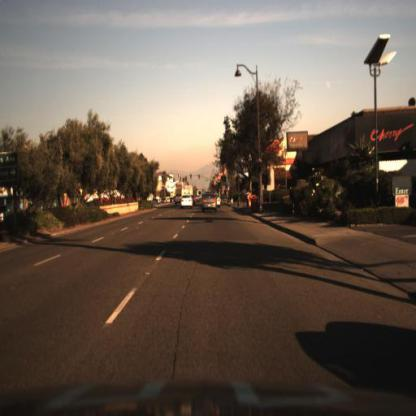car: (201, 193, 219, 215), (181, 193, 196, 211), (174, 191, 183, 208)
